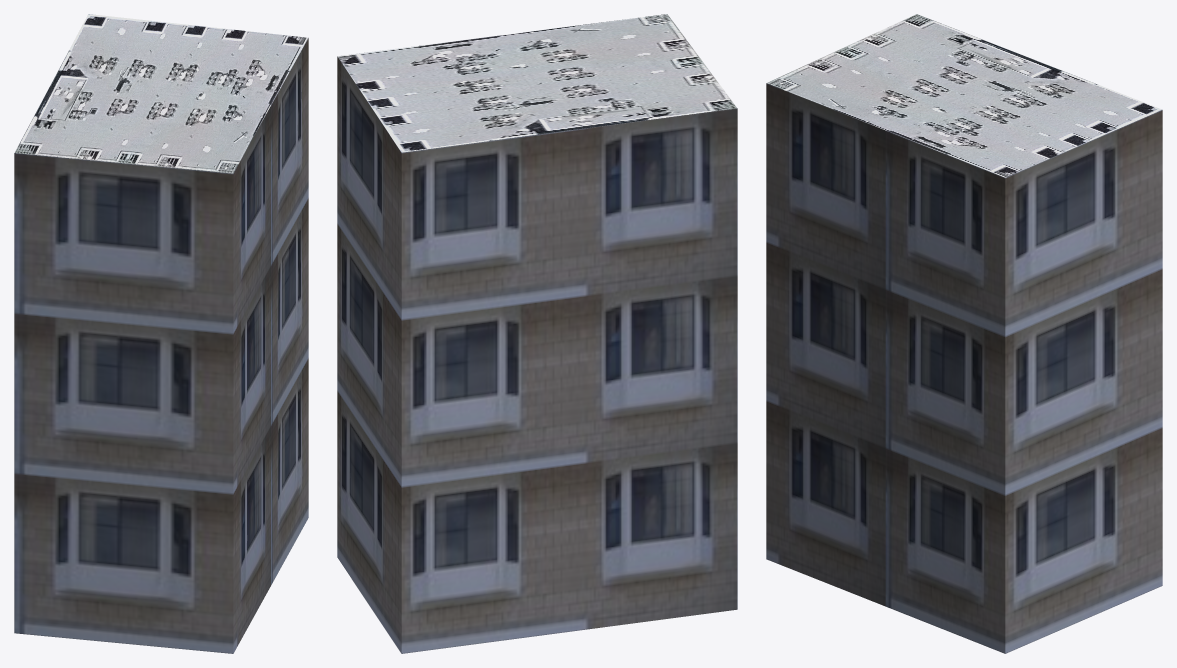
File: ResTex__3422.fbx
3 renders of one model, left to right at view 1: azimuth 30°, elevation 25°; view 2: azimuth 150°, elevation 25°; view 3: azimuth 270°, elevation 25°, orthographic. The views are drawn at different scales.
Visible parts, largest first — view 1: CityEngineMaterial_3_m, CityEngineMaterial_8_m; view 2: CityEngineMaterial_3_m, CityEngineMaterial_8_m; view 3: CityEngineMaterial_3_m, CityEngineMaterial_8_m.
Boxes of the visible parts, left/top/right/bottom form: CityEngineMaterial_3_m: left=14, top=38, right=308, bottom=653; CityEngineMaterial_8_m: left=14, top=14, right=307, bottom=173; CityEngineMaterial_3_m: left=337, top=56, right=737, bottom=653; CityEngineMaterial_8_m: left=338, top=14, right=736, bottom=152; CityEngineMaterial_3_m: left=766, top=83, right=1162, bottom=653; CityEngineMaterial_8_m: left=766, top=14, right=1161, bottom=177.
Size of the model in its own units: 6.64 by 9 by 6.79.
2 materials, 2 textured.
